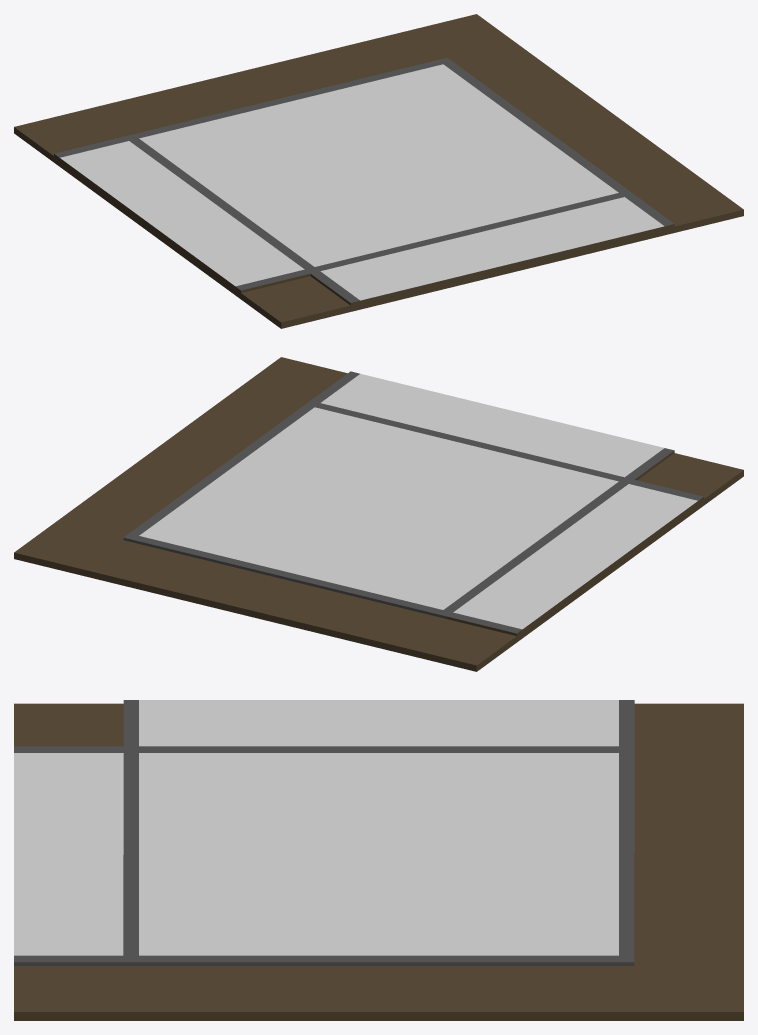
The model's file is Floor_Turn_Corridor.fbx.
3 views of the same model, one above another, from view 1: azimuth 30°, elevation 25°; view 2: azimuth 150°, elevation 25°; view 3: azimuth 270°, elevation 25° (orthographic). The views are drawn at different scales.
Visible parts, largest first — view 1: Floor.002; view 2: Floor.002; view 3: Floor.002.
Boxes of the visible parts, box(x1,y1,x2,y2) form: Floor.002: box(14, 14, 743, 328); Floor.002: box(14, 357, 743, 671); Floor.002: box(14, 700, 743, 1020).
Size of the model in its own units: 600 by 11.21 by 600.
